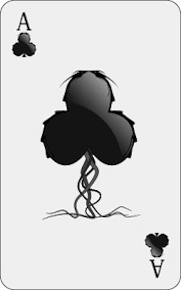AceOfClubs: (1, 1, 179, 290)
